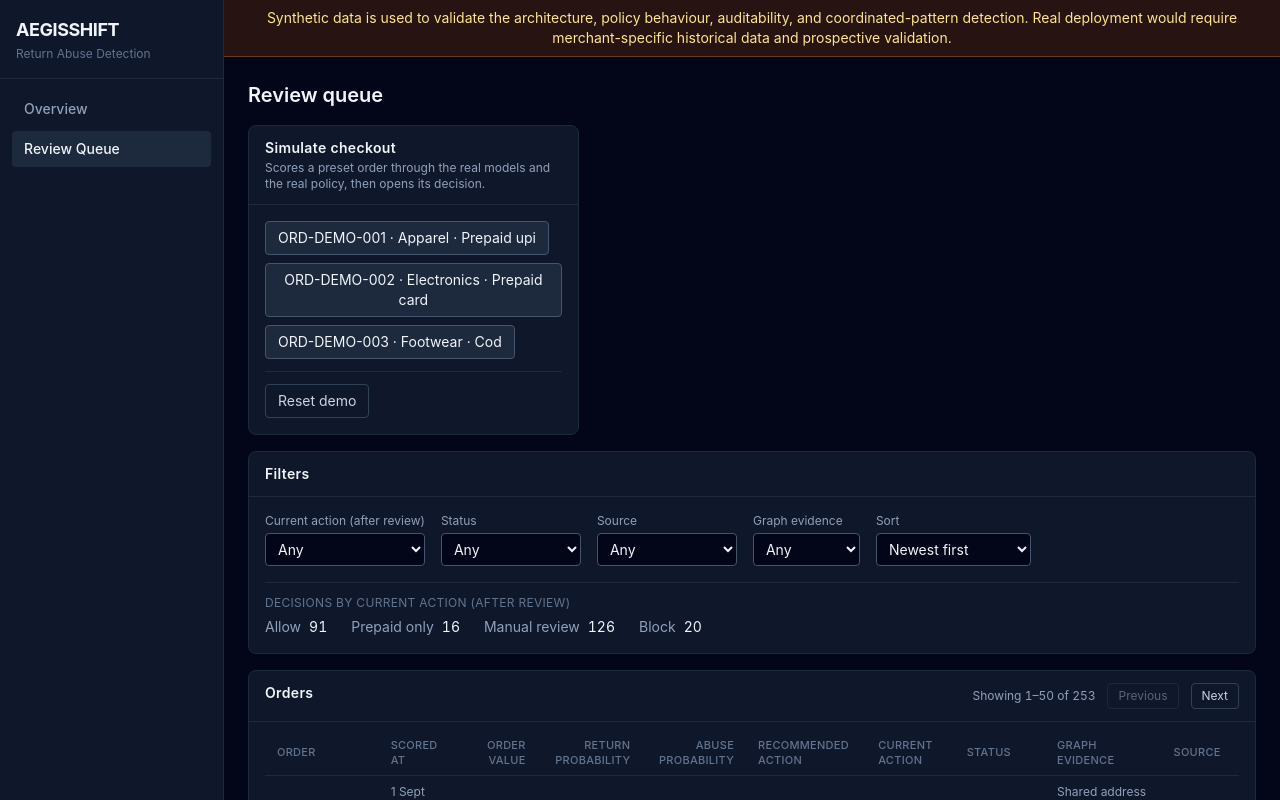
Test case: reset demo › confirms before it posts, and refetches the queue afterwards
Click the button with test id "reset-demo-button". click: point(317, 401)
box: x1=265 y1=384 x2=369 y2=418
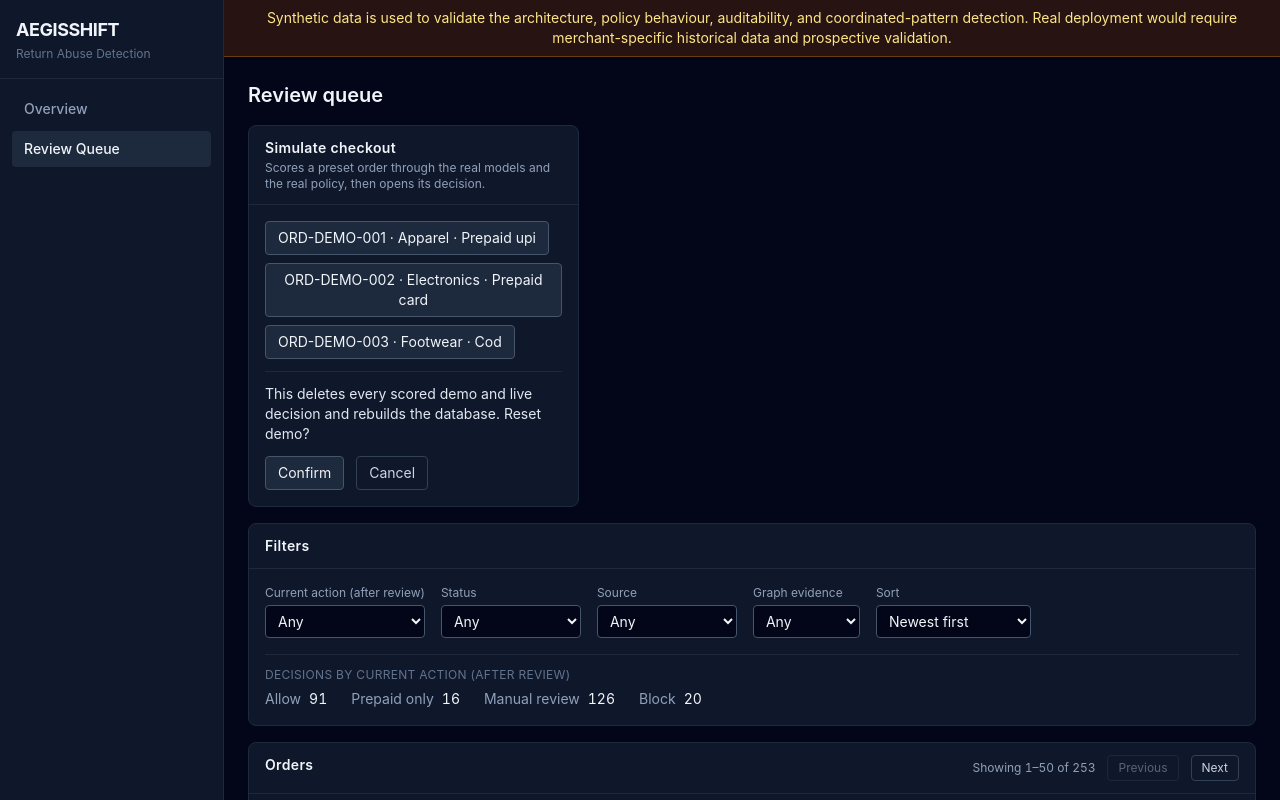
Result: the element with test id "reset-confirm" shows "This deletes every scored demo and live decision and rebuilds the database. Reset demo?" at x1=265 y1=385 x2=541 y2=442
Click the button "Confirm". click: point(305, 473)
box: x1=265 y1=456 x2=344 y2=490
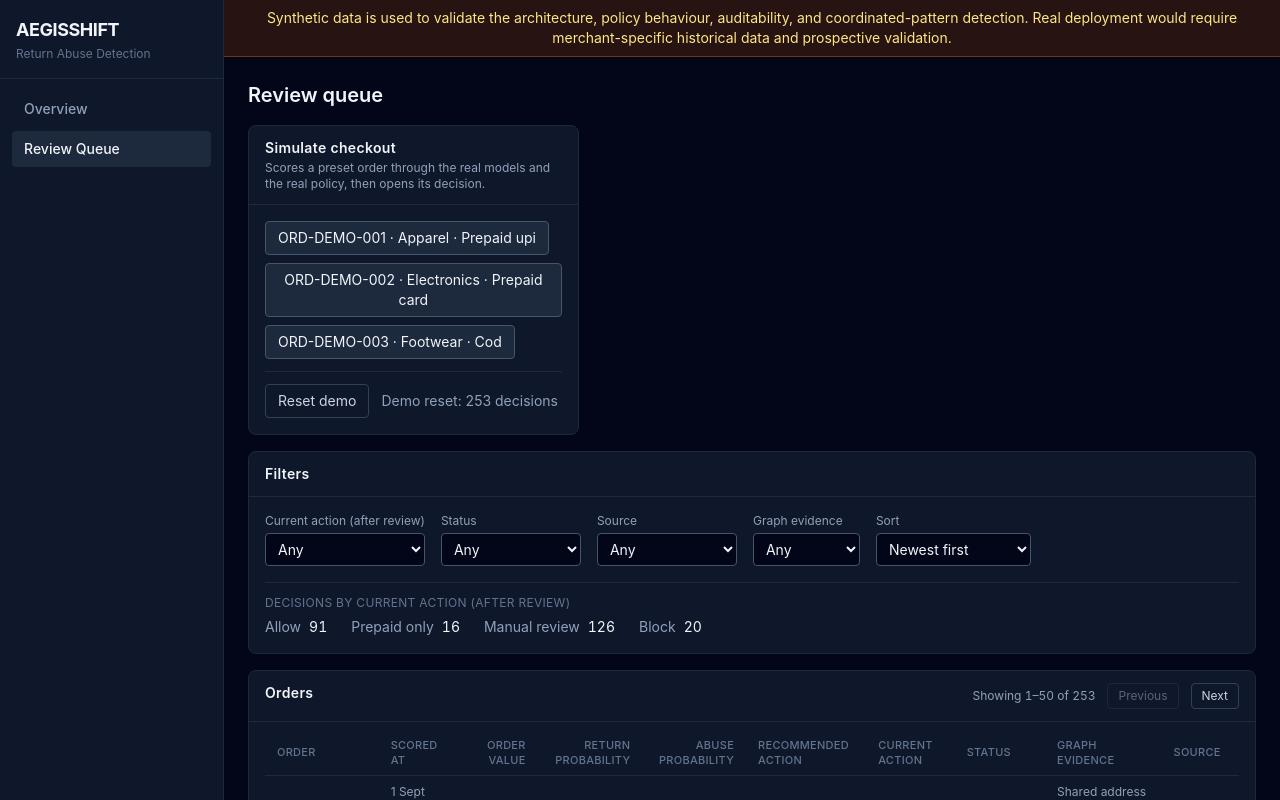
Result: the text "Demo reset: 253 decisions" is shown at x1=381 y1=391 x2=558 y2=411
Result: the text with test id "reset-result" shows "Demo reset:" at x1=381 y1=392 x2=466 y2=409
